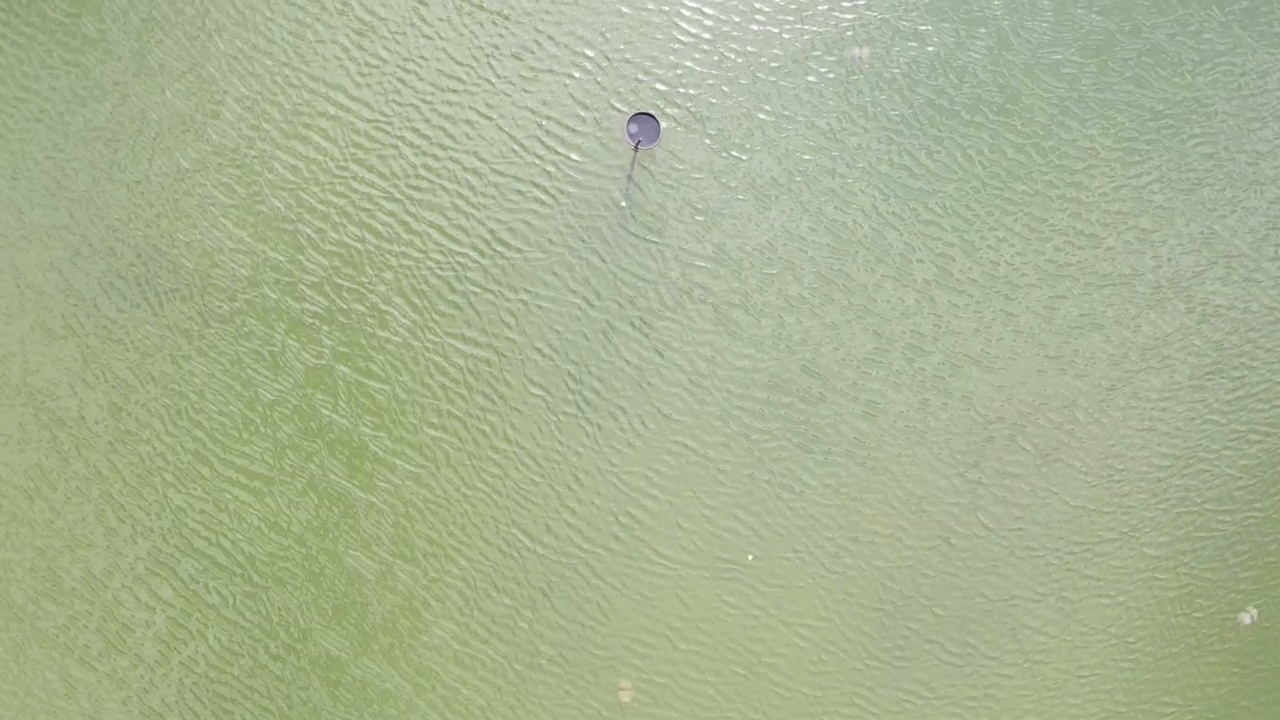meduse: (617, 681, 635, 704), (852, 45, 872, 63), (1238, 607, 1259, 623)
